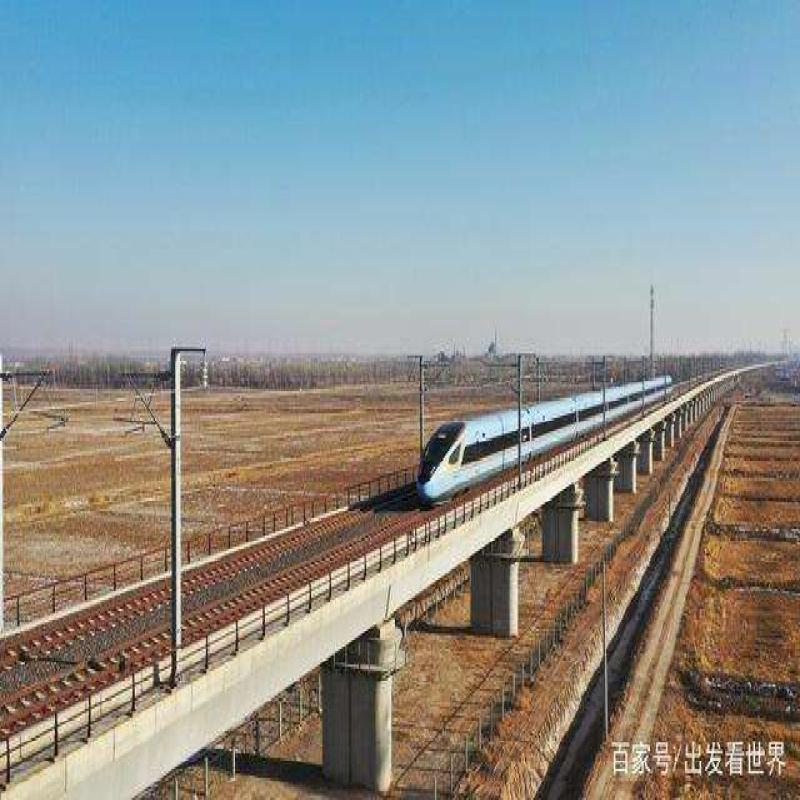train: (423, 377, 671, 497)
